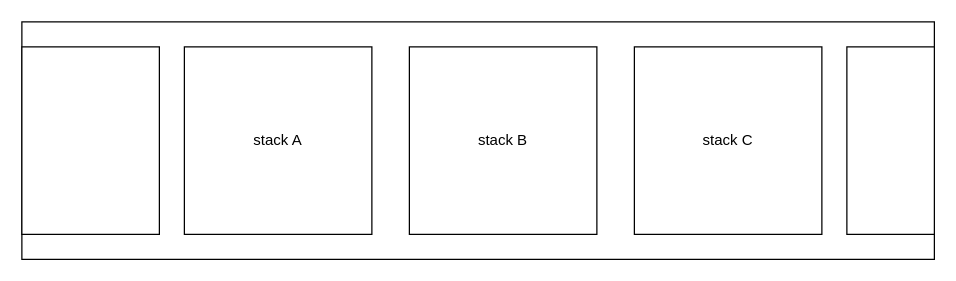
Some shapes in this 956 by 281 pixel diagram are drawn without their labels. The shapes that lost their labels are listed below. From the top down, each one's centre as x and y in pixels, then its label:
(90,140): ck E
(890,140): stac
